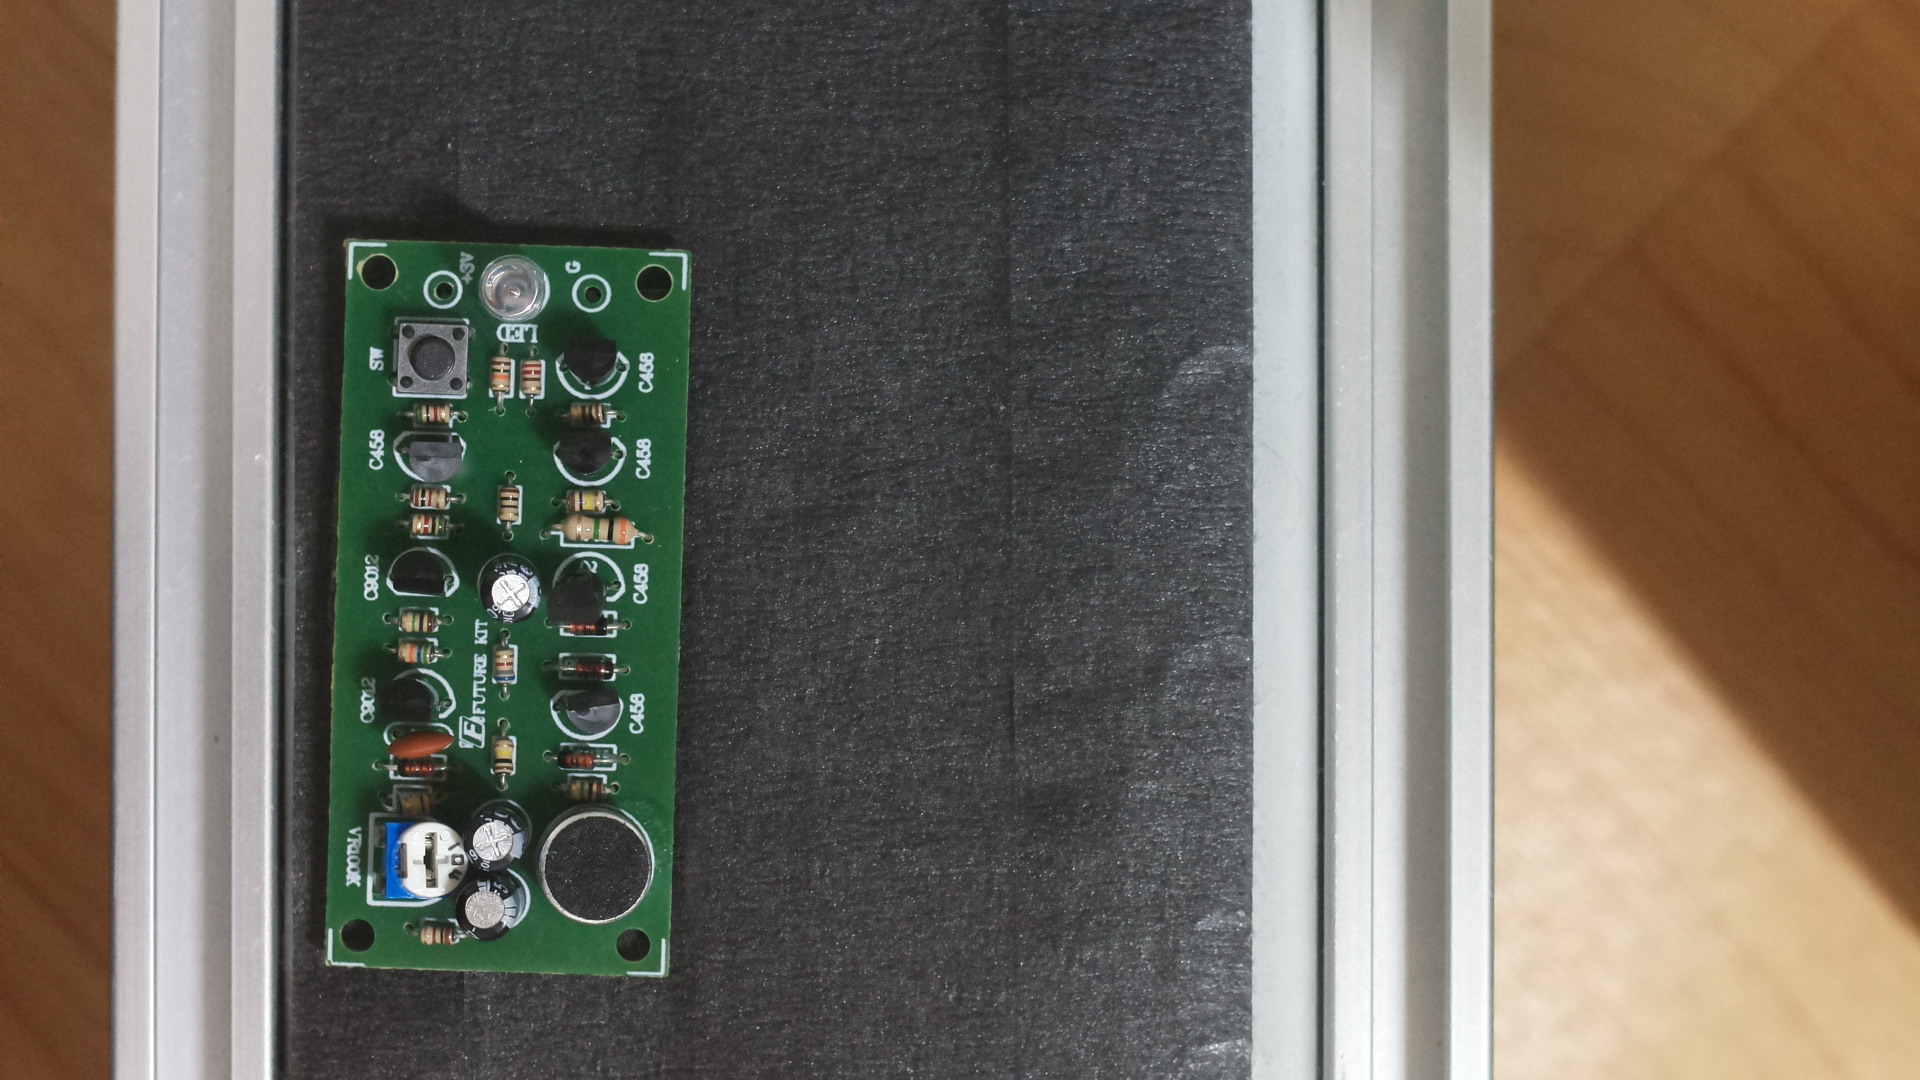A_Normal: (320, 222, 699, 989)
